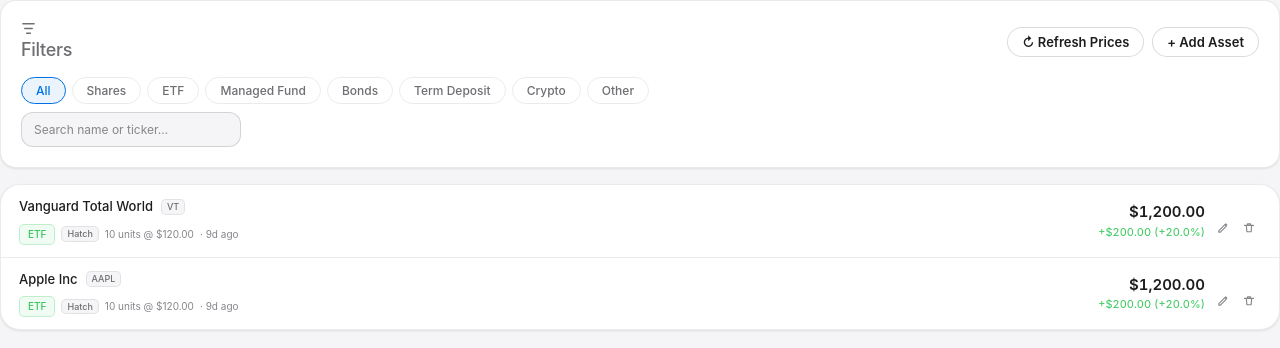
Test: InvestmentAssets — search filter › filters by ticker
Type "VT" into the field with placeholder "Search name or ticker…" at (131, 130), box x1=21 y1=112 x2=241 y2=147
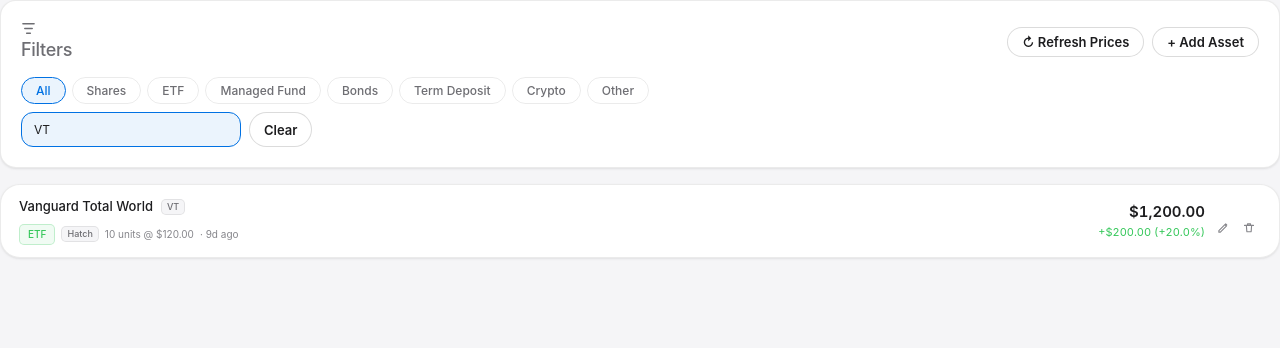
Expected: the text "Vanguard Total World" is shown, x1=19 y1=197 x2=153 y2=216
Now the text "Apple Inc" is gone
